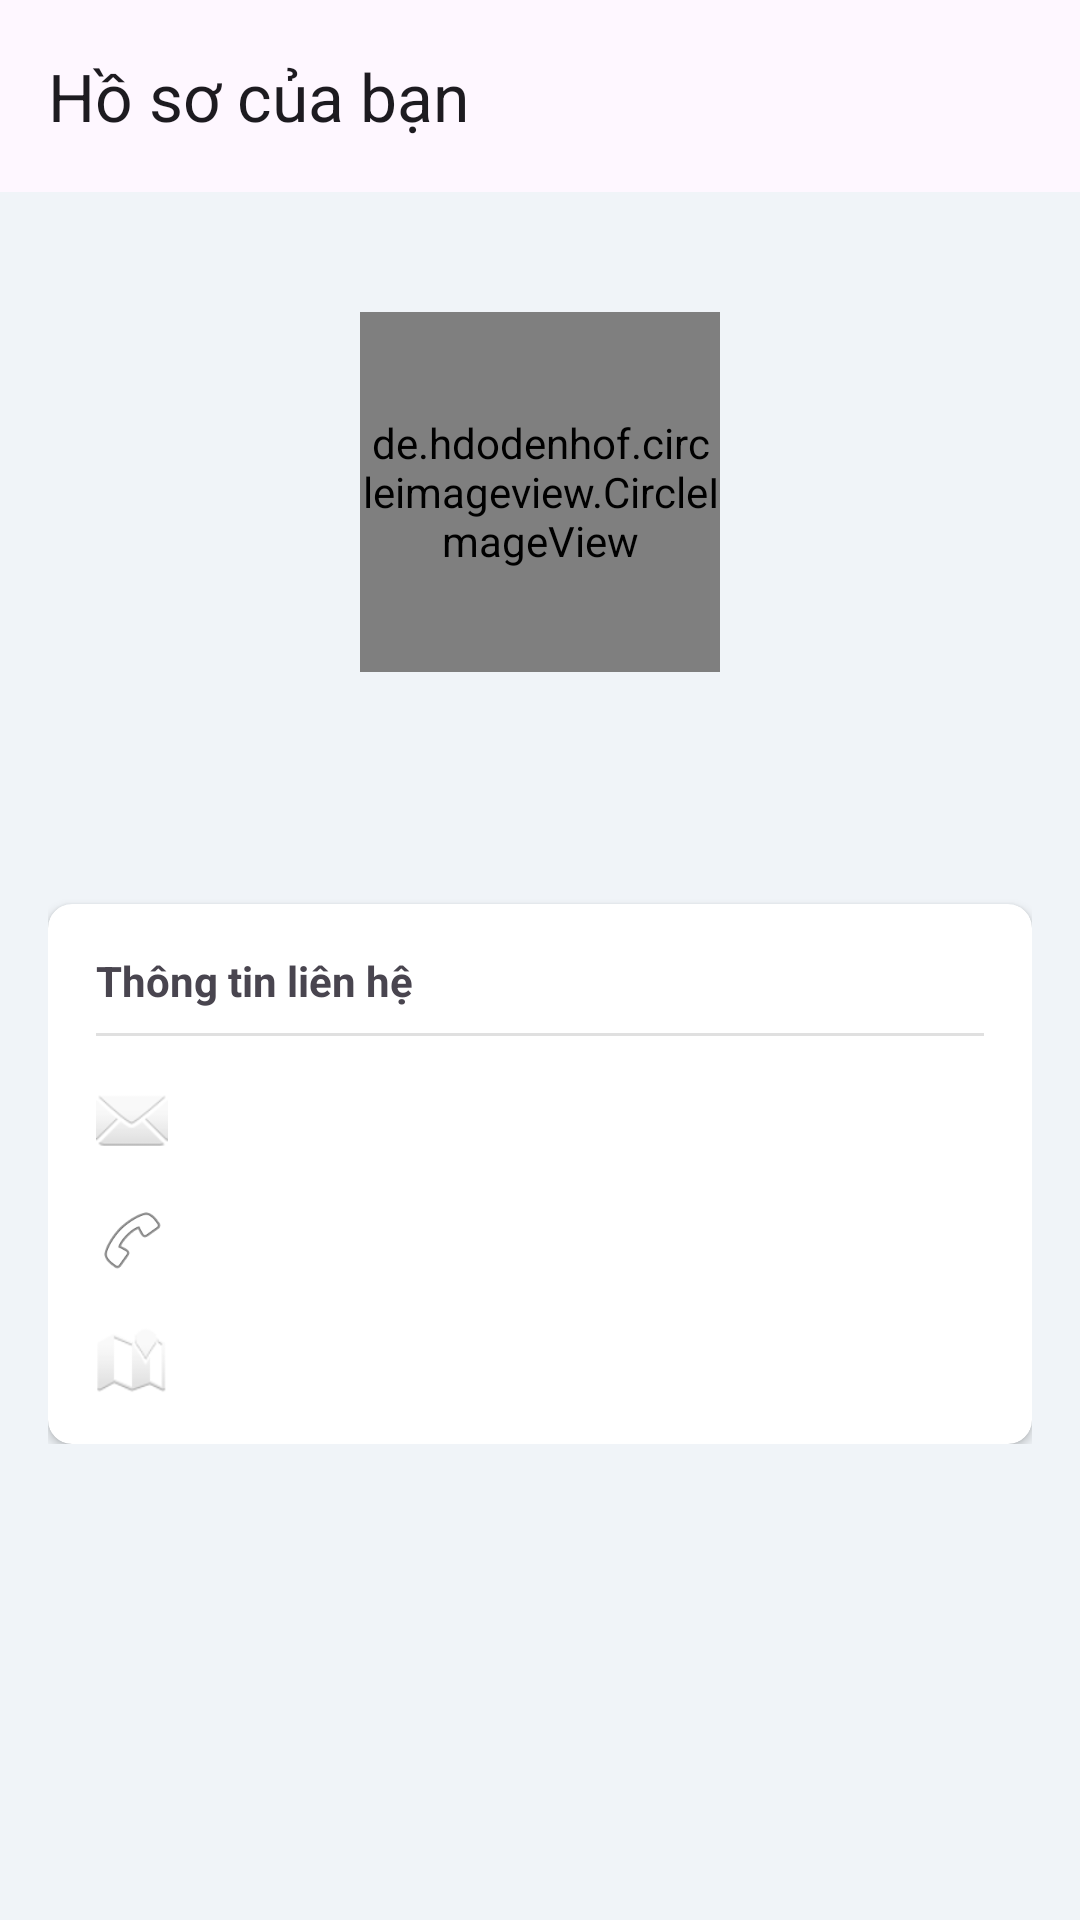

Icon click points for this 1080 x 1920 phone screenshot, format [x,y]:
call: [132,1240]
email: [132,1121]
map: [131,1363]
